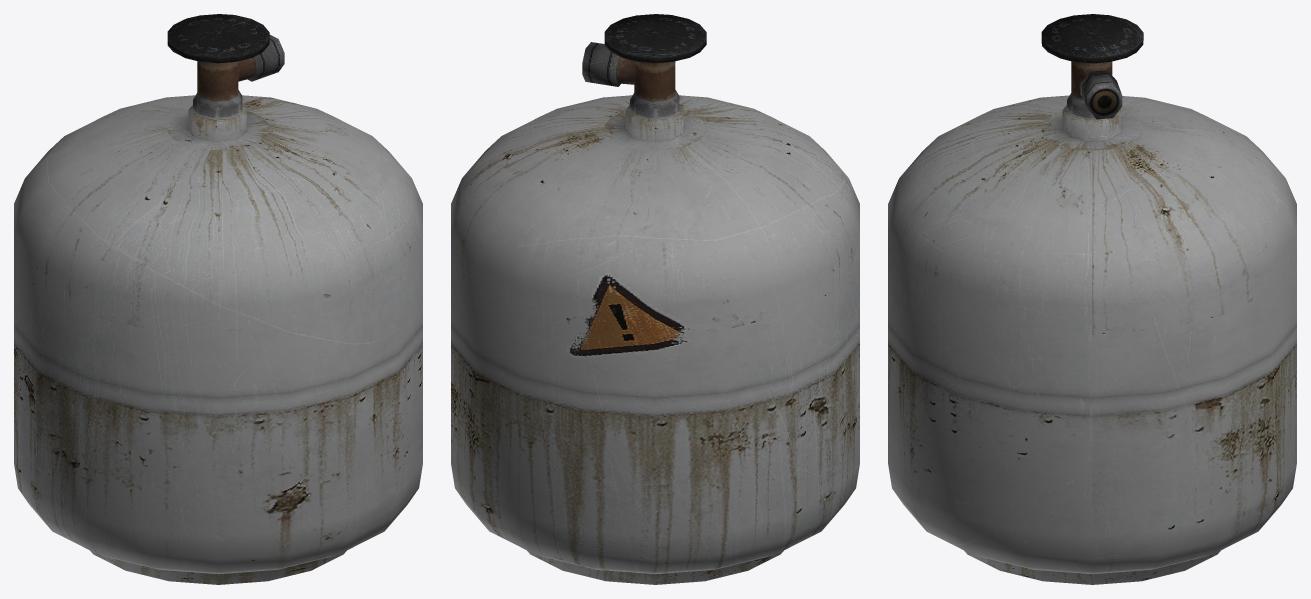
The model's file is GasBottle.FBX.
3 views of the same model, side by side, from view 1: azimuth 30°, elevation 25°; view 2: azimuth 150°, elevation 25°; view 3: azimuth 270°, elevation 25° (orthographic).
Parts seen in each view (by area): view 1: Gaz_tank; view 2: Gaz_tank; view 3: Gaz_tank.
Boxes of the visible parts, x1,y1,x2,y2 form: Gaz_tank: (14, 14, 422, 584); Gaz_tank: (451, 14, 859, 584); Gaz_tank: (888, 14, 1296, 584).
Bounding box in the file's own units: 3.38 × 4.41 × 3.33.
Materials: 1 (1 with a texture image).
